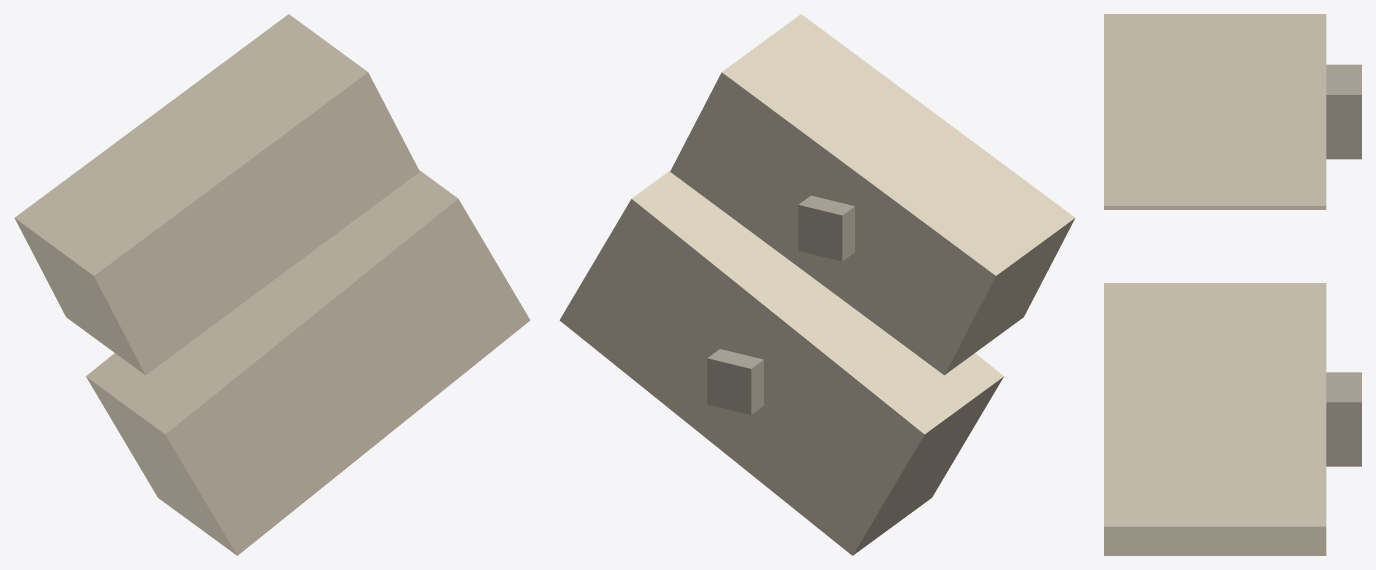
Rendered from historic-palestine-13_25_3546_3198.glb.
3 views of the same model, side by side, from view 1: azimuth 30°, elevation 25°; view 2: azimuth 150°, elevation 25°; view 3: azimuth 270°, elevation 25° (orthographic). The views are drawn at different scales.
Visible parts, largest first — view 1: Building_, Building_.001; view 2: Building_, Building_.001, Roof access hut, Roof access hut .001; view 3: Building_, Building_.001, Roof access hut .001, Roof access hut.
Boxes of the visible parts, x1,y1,x2,y2 form: Building_: (86,170,530,555); Building_.001: (14,14,419,375); Building_: (559,170,1003,555); Building_.001: (670,14,1075,375); Roof access hut: (707,349,763,414); Roof access hut .001: (798,195,854,261); Building_: (1104,283,1326,555); Building_.001: (1104,14,1326,209); Roof access hut .001: (1326,64,1361,159); Roof access hut: (1326,372,1361,466).
Bounding box in the file's own units: 23.78 × 23.52 × 8.7.
